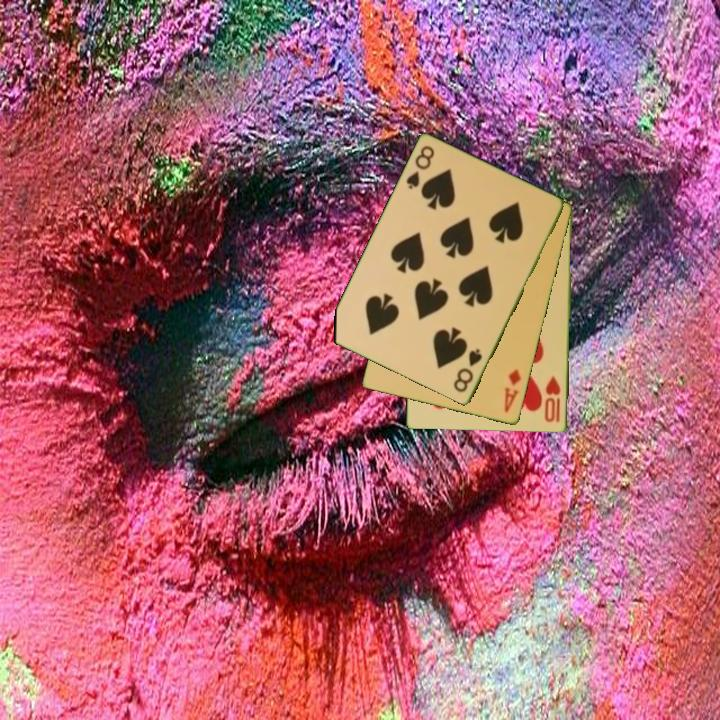10h: (542, 373, 563, 426)
8s: (450, 345, 486, 396), (403, 142, 438, 192)
Ad: (501, 366, 524, 416)
